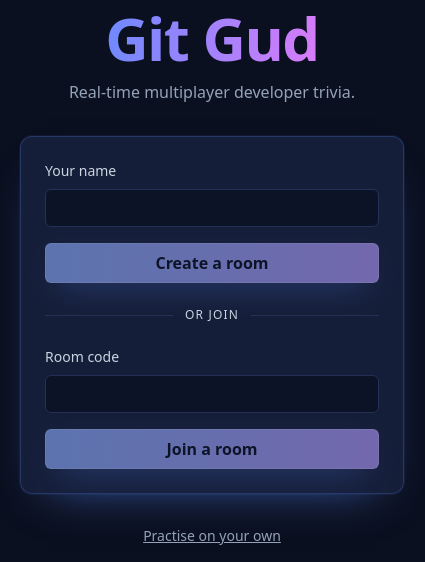
Test case: lobby screen › requires a name before creating
The image size is (425, 562).
Expected: the button "Create a room" is disabled, 45,243 -> 379,283
Step 1. Type "Alex" into the field labelled "Your name" → [212, 208], box 45,189 -> 379,227
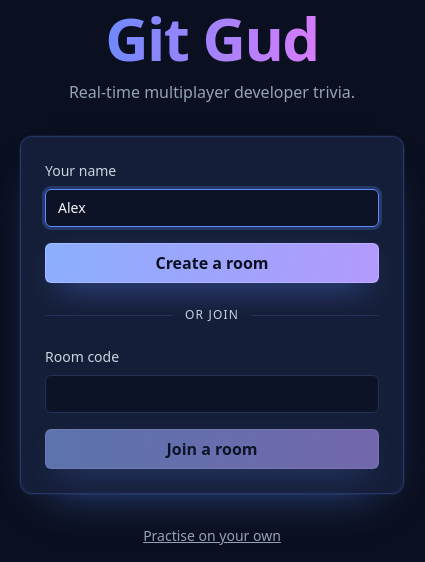
Expected: the button "Create a room" is enabled, 45,243 -> 379,283
